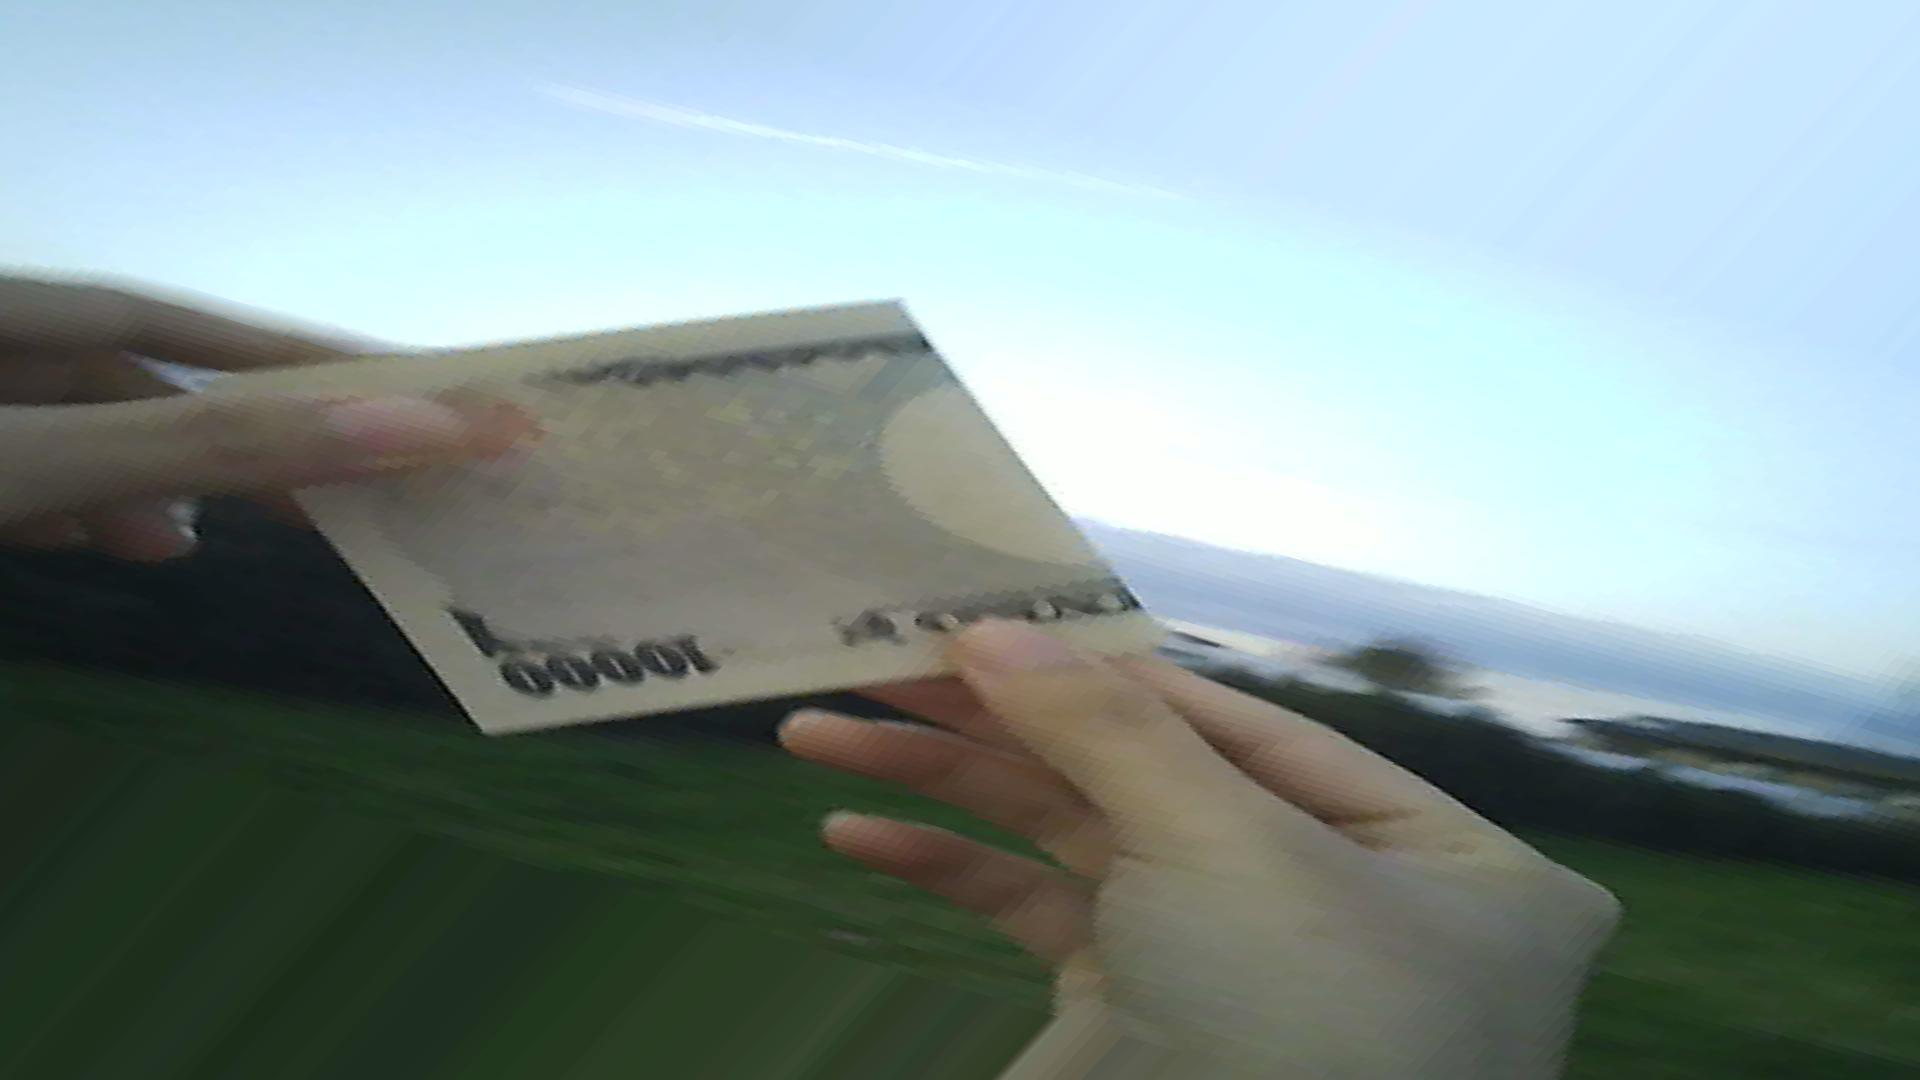10,000 Yen: (228, 266, 1168, 716)
